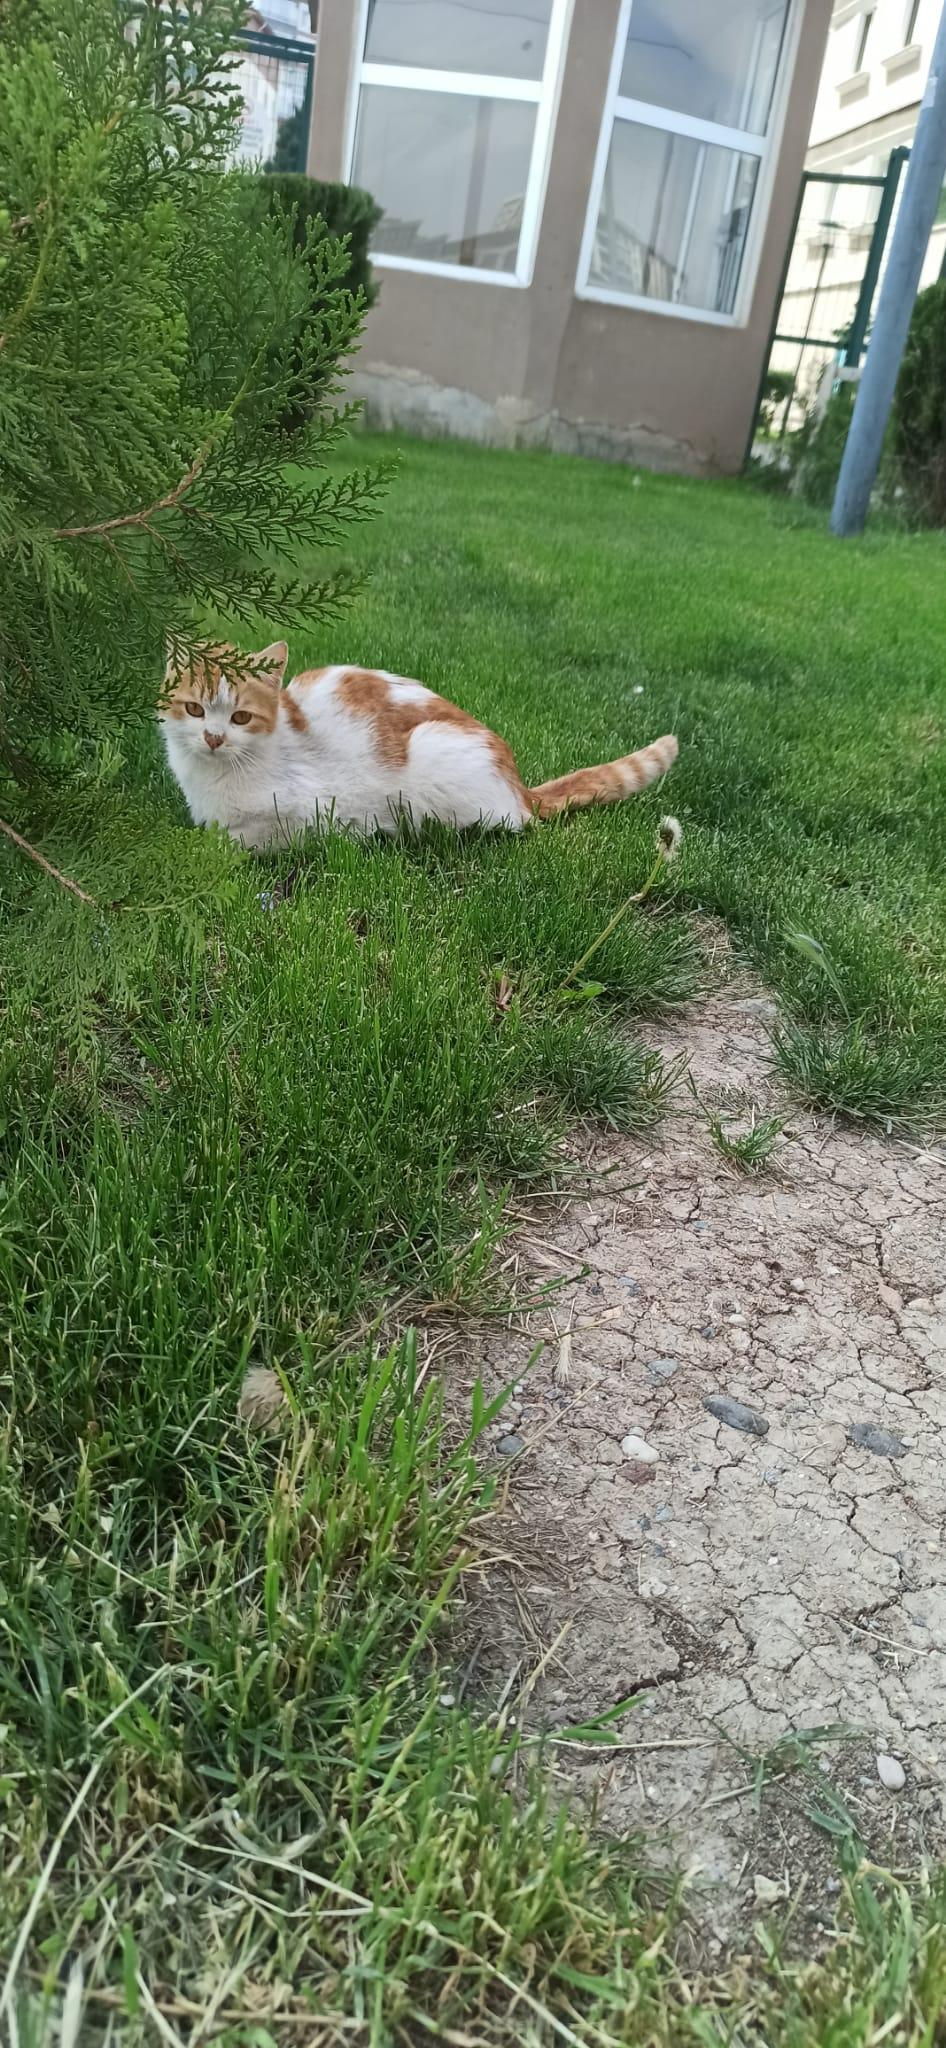kedo: (165, 626, 681, 836)
